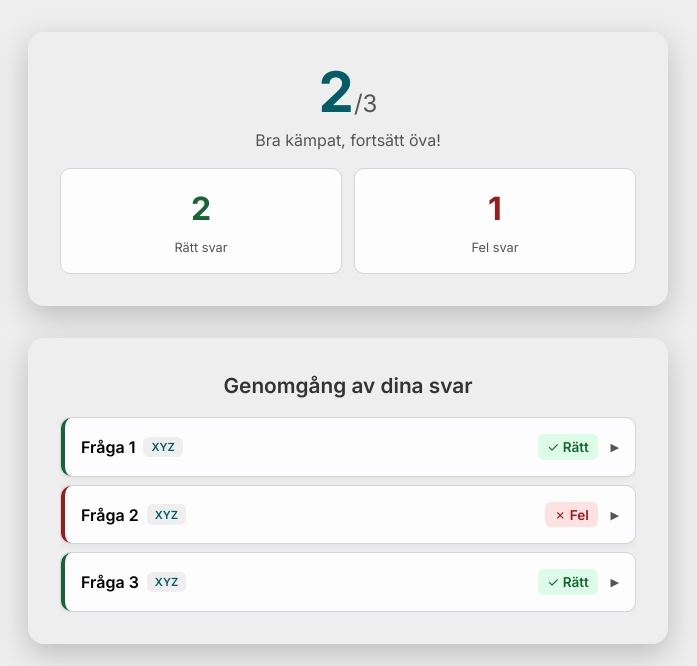
Test: ResultsScreen – review list › expands a question when its header is clicked
Click the button "Fråga 1 XYZ ✓ Rätt ▶" at (105,447), box [61,418,635,476]
(page scrolled)
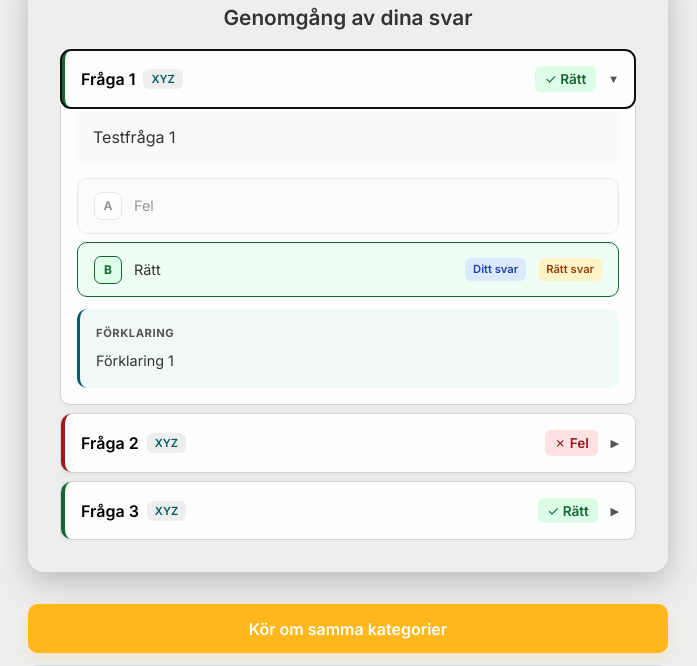
Result: the text "Förklaring 1" is shown at [96,352,174,368]
